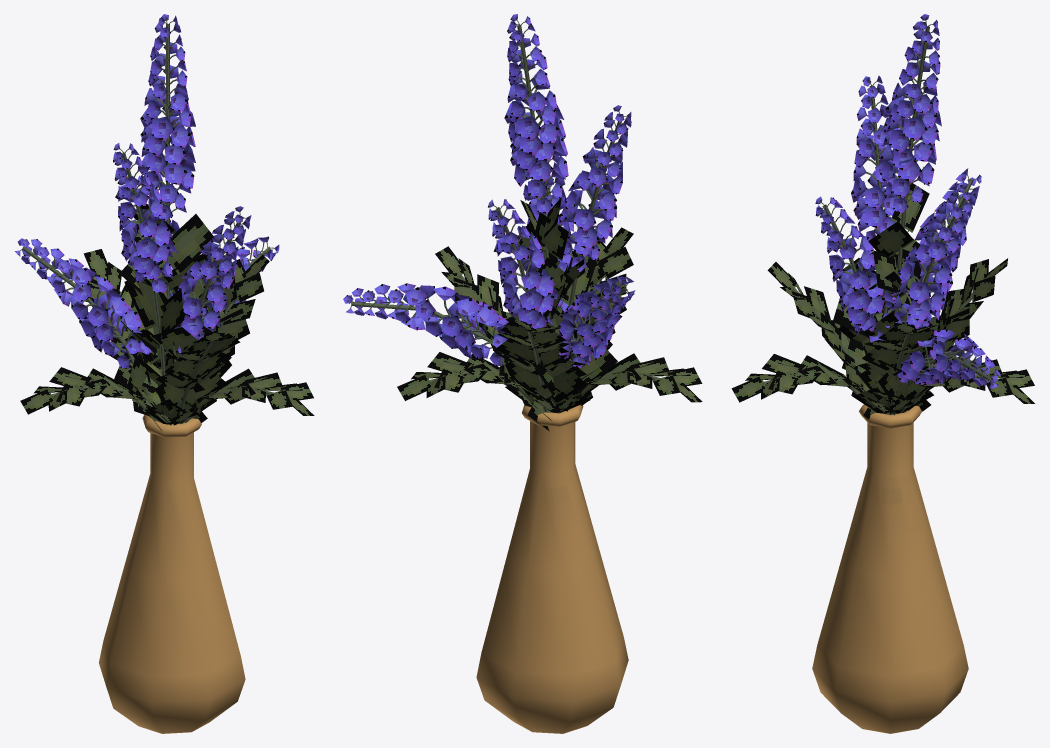
Rendered from a_com_house_a01_plant01_orange.gltf.
3 views of the same model, side by side, from view 1: azimuth 30°, elevation 25°; view 2: azimuth 150°, elevation 25°; view 3: azimuth 270°, elevation 25° (orthographic). The views are drawn at different scales.
Parts seen in each view (by area): view 1: um_a_com_house_a01_plant01_model_a_com_house_a01_plant01_mod (×2); view 2: um_a_com_house_a01_plant01_model_a_com_house_a01_plant01_mod (×2); view 3: um_a_com_house_a01_plant01_model_a_com_house_a01_plant01_mod (×2).
Boxes of the visible parts, x1,y1,x2,y2 form: um_a_com_house_a01_plant01_model_a_com_house_a01_plant01_mod (×2): (14,14,314,733); um_a_com_house_a01_plant01_model_a_com_house_a01_plant01_mod (×2): (343,14,702,733); um_a_com_house_a01_plant01_model_a_com_house_a01_plant01_mod (×2): (731,14,1034,733).
Size of the model in its own units: 0.4321 by 0.9504 by 0.3704.
2 materials, 2 textured.
